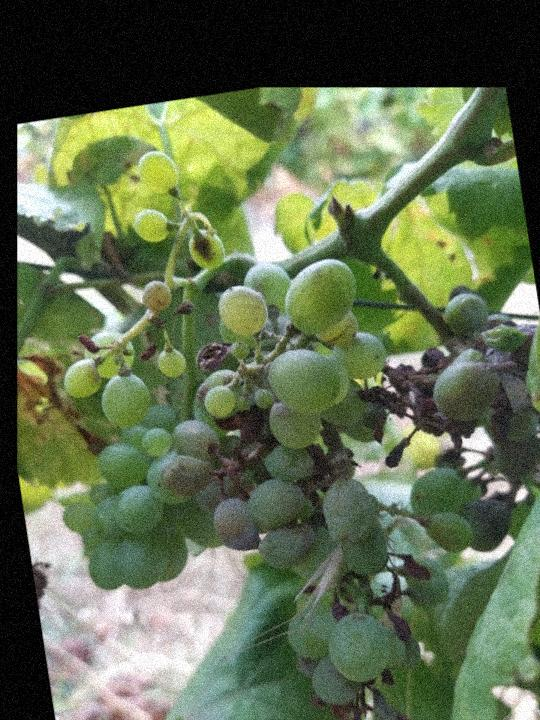grape: (49, 246, 452, 720)
